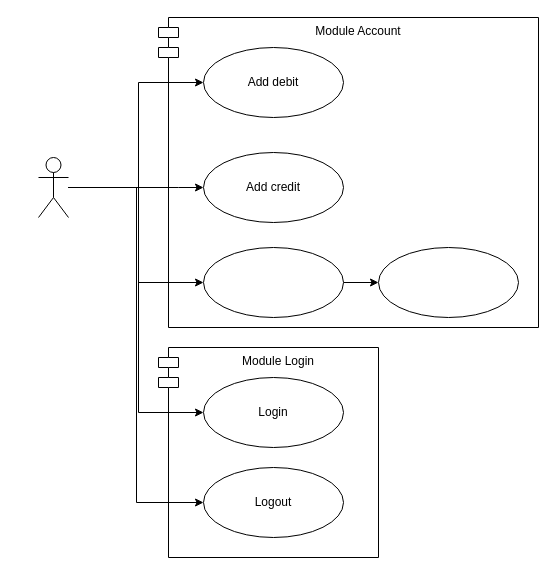
The diagram is 556 pixels wide and 575 high, and some of its shapes have lost their labels. Here are the shapes that lost their labels. From the top down, the centre of each, then its label:
the point at 53,187: AccoutHolder
the point at 273,282: Delete a debit/credit
the point at 448,282: Calculate Remain
